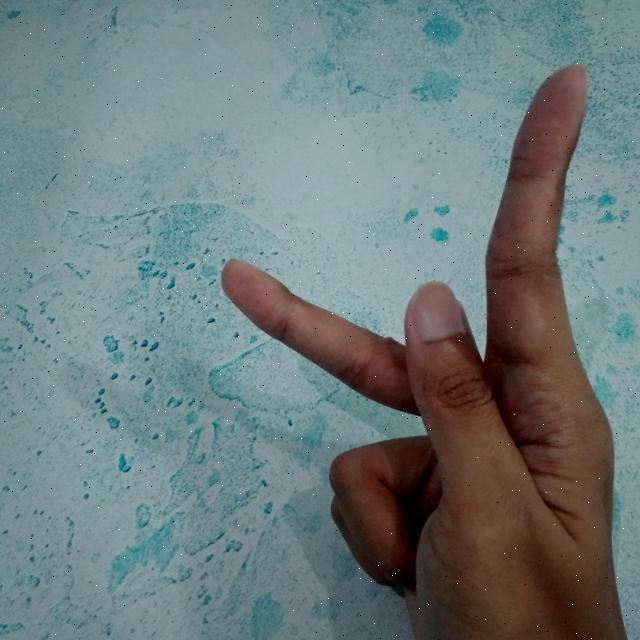K: (215, 58, 639, 640)
